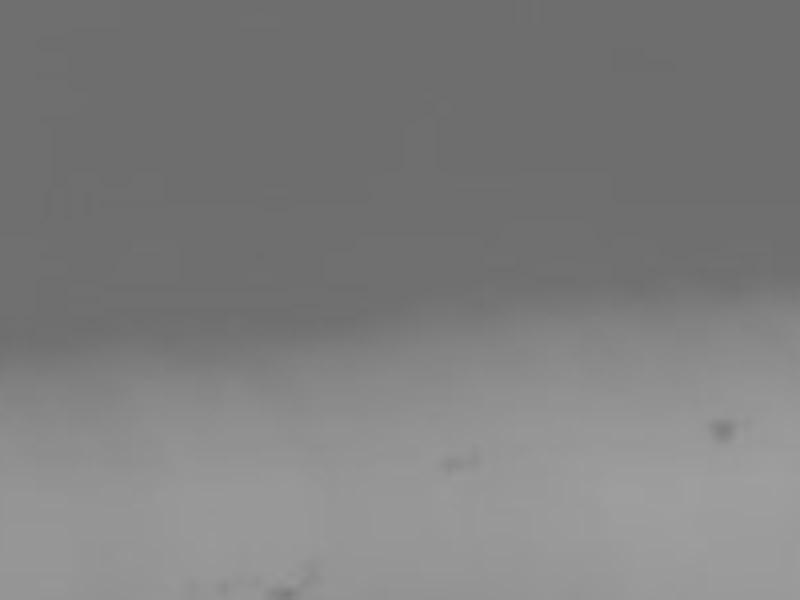defect: (444, 442, 485, 475), (711, 411, 737, 447), (263, 578, 300, 600)
